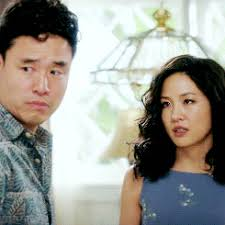asian_female: (147, 58, 215, 160)
